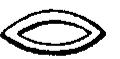Mouth: (1, 9, 114, 56)
